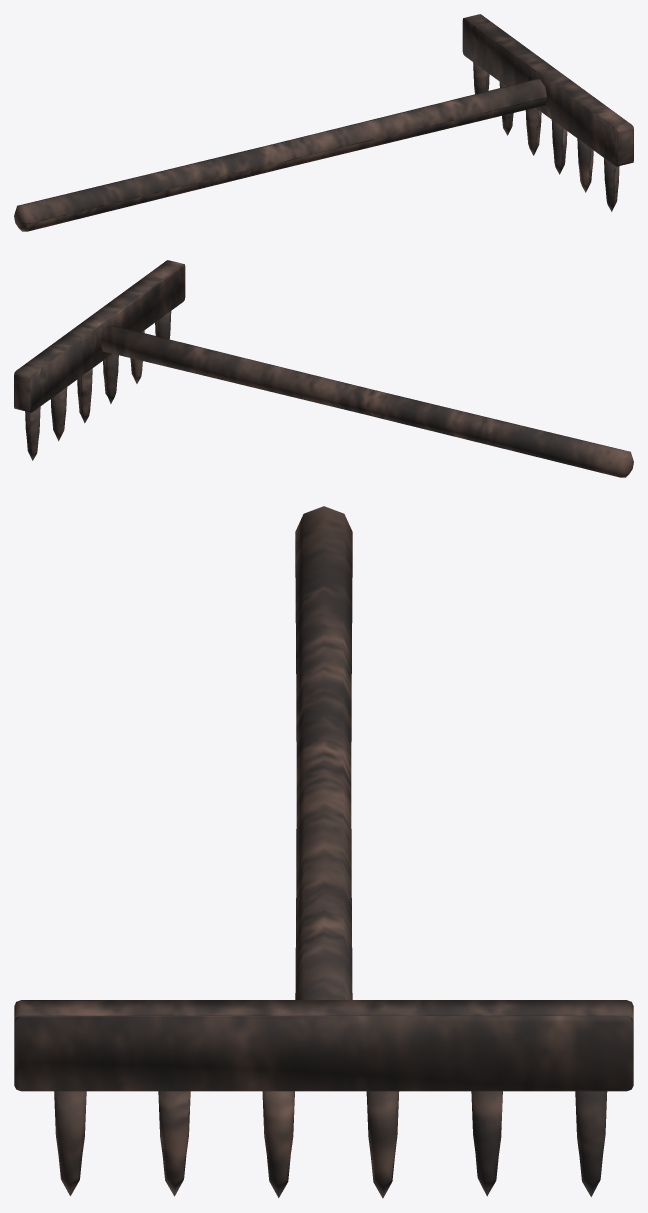
The model's file is RakeBaked.glb.
3 views of the same model, one above another, from view 1: azimuth 30°, elevation 25°; view 2: azimuth 150°, elevation 25°; view 3: azimuth 270°, elevation 25° (orthographic). The views are drawn at different scales.
Visible parts, largest first — view 1: Cube.001; view 2: Cube.001; view 3: Cube.001.
Boxes of the visible parts, bbox=[...] form: Cube.001: bbox=[14, 14, 633, 231]; Cube.001: bbox=[14, 260, 633, 477]; Cube.001: bbox=[14, 506, 633, 1198].
Bounding box in the file's own units: 29.95 × 5.07 × 14.94.
Materials: 1 (1 with a texture image).
